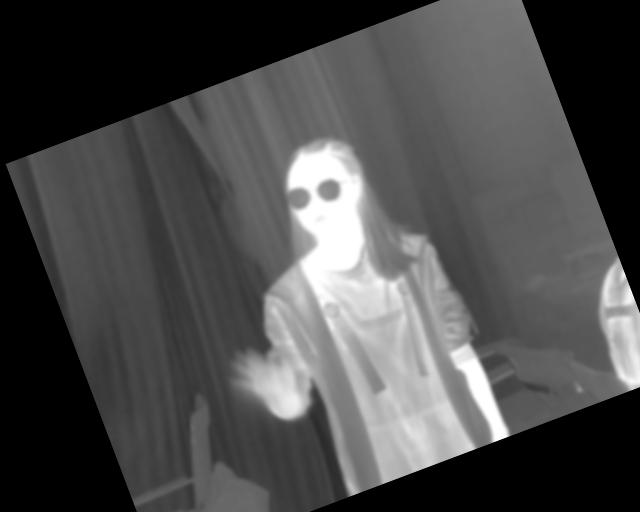face: (270, 129, 378, 249)
